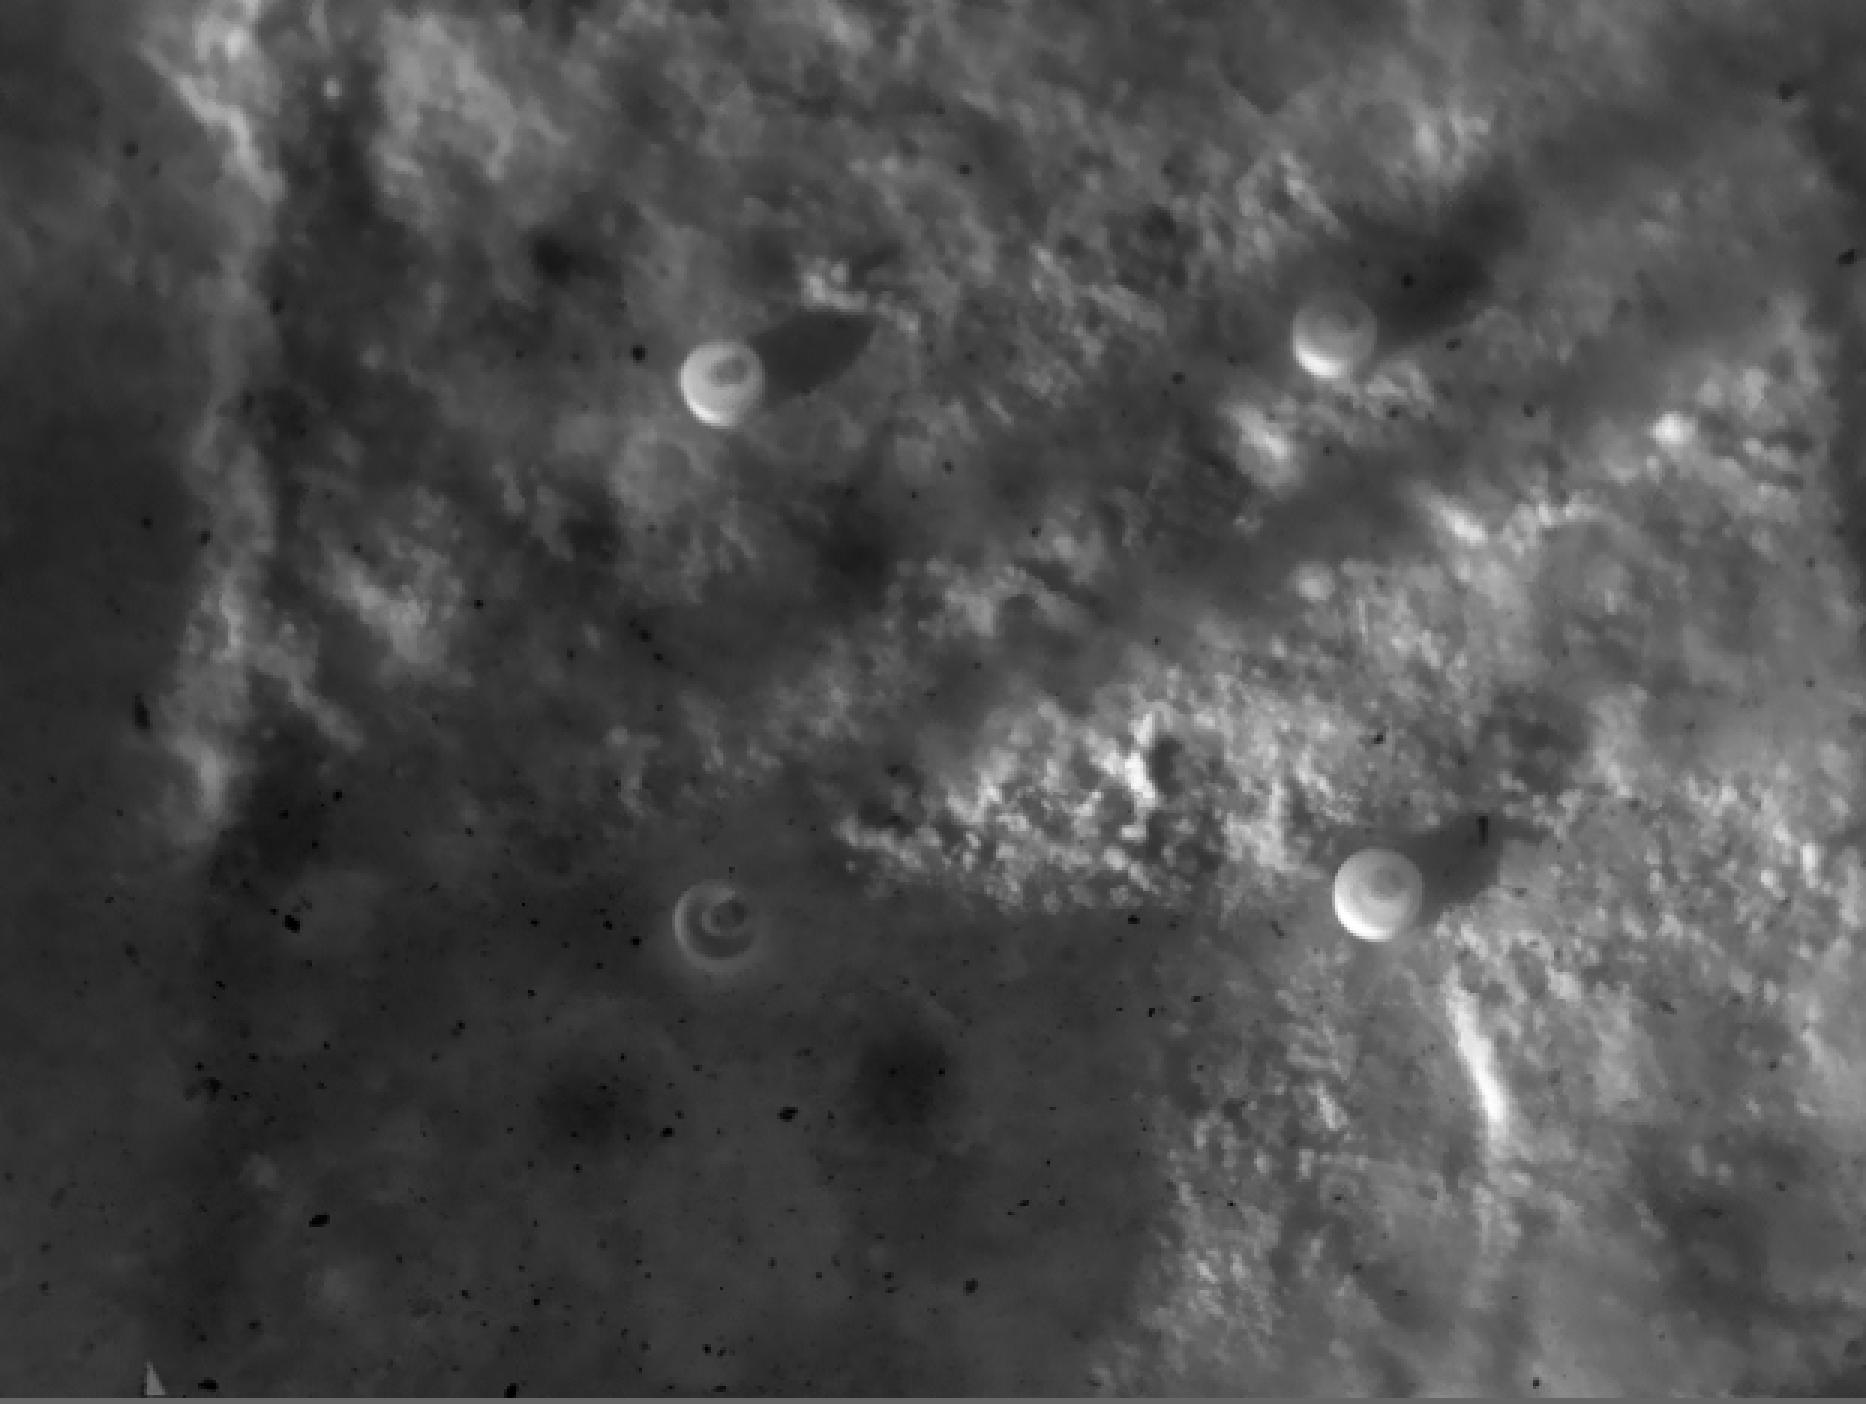mines-gjV8: (1338, 852, 1426, 957), (1298, 292, 1373, 380), (684, 872, 755, 965), (692, 342, 769, 420)
